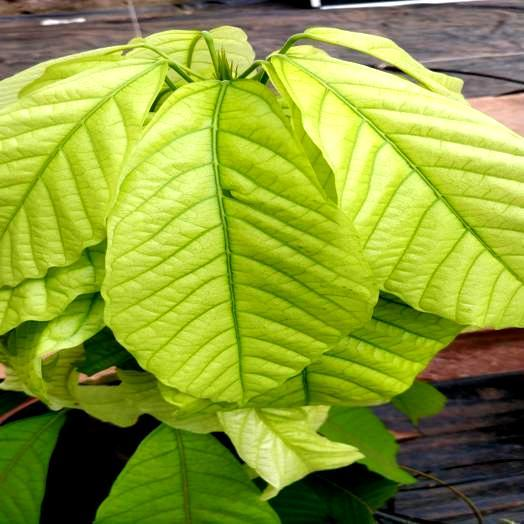Healthy Leaf: (94, 425, 278, 523)
Iron: (103, 80, 377, 400), (270, 28, 523, 327), (0, 58, 166, 288)
